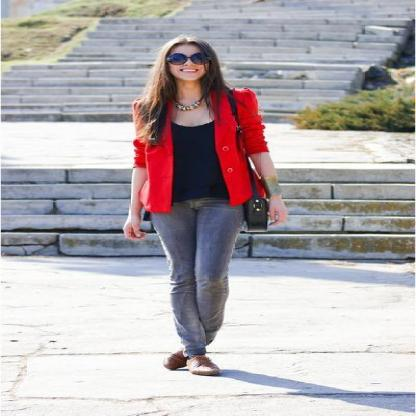bag: (206, 99, 280, 234)
jacket: (133, 89, 268, 215)
pants: (162, 198, 249, 357)
shirt: (172, 121, 228, 205)
shoe: (164, 354, 223, 376)
